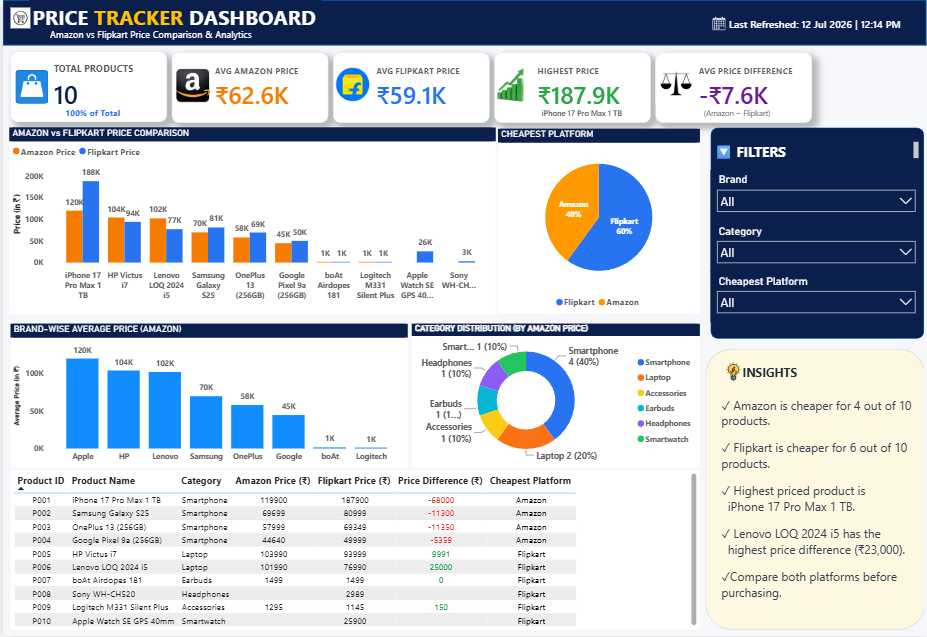

The dashboard page shown, as its layout file describes it:
{"tool":"powerbi","page":{"name":"Page 1","canvas":[1450,1000],"ordinal":0},"visuals":[{"type":"cardVisual","title":"TOTAL PRODUCTS","fields":{"Data":["merged_prices.Total Products"]},"box":[10.8,81.1,245.9,110.8],"z":0},{"type":"shape","box":[0,0,1450,71.2],"z":1000},{"type":"textbox","box":[41.4,0,458.6,60],"z":2000},{"type":"image","box":[11,11,31.6,32.9],"z":3000},{"type":"textbox","box":[68.6,39.8,355.4,32.9],"z":4000},{"type":"cardVisual","fields":{"Data":["merged_prices.Last Refreshed"]},"box":[1109.6,0,336.5,71.2],"z":5000},{"type":"image","box":[1107.7,21.2,30.8,30.8],"z":6000},{"type":"shape","box":[20,109.2,51.4,52.9],"z":7000},{"type":"image","box":[27.1,109.2,35.7,48.6],"z":8000},{"type":"textbox","box":[73,162.2,136.5,36.5],"z":9000},{"type":"cardVisual","title":"TOTAL PRODUCTS","fields":{"Data":["merged_prices.Avg Amazon Display"]},"box":[264.4,81.4,245.7,110],"z":10000},{"type":"image","box":[262.9,104.3,70,60],"z":11000},{"type":"cardVisual","title":"TOTAL PRODUCTS","fields":{"Data":["merged_prices.Avg Flipkart Display"]},"box":[517.7,81.4,245.7,110],"z":12000},{"type":"image","box":[513.9,95.3,70,74.8],"z":13000},{"type":"cardVisual","title":"TOTAL PRODUCTS","fields":{"Data":["merged_prices.Highest Price Display"]},"box":[771,81.4,245.7,110],"z":14000},{"type":"cardVisual","fields":{"Data":["merged_prices.Highest Product"]},"box":[814.9,150,218.9,51.4],"z":15000},{"type":"image","box":[771.4,95.7,55,75],"z":16000},{"type":"cardVisual","title":"TOTAL PRODUCTS","fields":{"Data":["merged_prices.Avg Difference Display"]},"box":[1024.3,81.4,245.7,110],"z":17000},{"type":"textbox","box":[1075.7,163.5,150,31.1],"z":18000},{"type":"image","box":[1024.1,96.3,64.8,68.5],"z":19000},{"type":"clusteredColumnChart","title":"AMAZON vs FLIPKART PRICE COMPARISON","fields":{"Category":["merged_prices.Product_Name_Amazon"],"Y":["Sum(merged_prices.Amazon_Price)","Sum(merged_prices.Flipkart_Price)"]},"box":[9.3,200,763,292.6],"z":20000},{"type":"pieChart","title":"CHEAPEST PLATFORM","fields":{"Y":["CountNonNull(merged_prices.Product_ID)"],"Category":["merged_prices.Cheapest_Platform"]},"box":[775.9,201.9,316.7,290.7],"z":21000},{"type":"clusteredColumnChart","title":"BRAND-WISE AVERAGE PRICE (AMAZON)","fields":{"Category":["merged_prices.Brand_Amazon"],"Y":["Avg(merged_prices.Amazon_Price)"]},"box":[11.1,507.4,623,225.9],"z":22000},{"type":"donutChart","title":"CATEGORY DISTRIBUTION (BY AMAZON PRICE)","fields":{"Category":["merged_prices.Category_Amazon"],"Y":["CountNonNull(merged_prices.Product_ID)"]},"box":[640.7,507.4,451.9,225.9],"z":23000},{"type":"tableEx","fields":{"Values":["merged_prices.Product_ID","merged_prices.Product_Name_Amazon","merged_prices.Category_Amazon","Sum(merged_prices.Amazon_Price)","Sum(merged_prices.Flipkart_Price)","Sum(merged_prices.Price_Difference)","merged_prices.Cheapest_Platform"]},"box":[11.1,737,1081.5,250],"z":24000},{"type":"shape","box":[1109.3,200,335.2,331.5],"z":25000},{"type":"textbox","box":[1109.3,216.7,331.5,37],"z":26000},{"type":"slicer","fields":{"Values":["merged_prices.Brand_Amazon"]},"box":[1109.3,266.7,331.5,79.6],"z":27000},{"type":"slicer","fields":{"Values":["merged_prices.Category_Amazon"]},"box":[1109.3,346.3,331.5,79.6],"z":28000},{"type":"slicer","fields":{"Values":["merged_prices.Cheapest_Platform"]},"box":[1109.3,425.9,331.5,79.6],"z":29000},{"type":"shape","box":[1101.9,546.3,344.4,440.7],"z":30000},{"type":"image","box":[1131.6,559.3,28.8,48.1],"z":31000},{"type":"textbox","box":[1154.7,567,194.2,48.1],"z":32000},{"type":"textbox","box":[1122.2,616.7,316.7,337],"z":33000}]}

Visuals, with their boxes in screenshot pixels (x1, y1, x2, y2), scaled from the page's 1450x1000 canvas onto the 927x637 screenshot:
"TOTAL PRODUCTS" cardVisual: {"x1": 7, "y1": 52, "x2": 164, "y2": 122}
shape: {"x1": 0, "y1": 0, "x2": 926, "y2": 45}
textbox: {"x1": 26, "y1": 0, "x2": 320, "y2": 38}
image: {"x1": 7, "y1": 7, "x2": 27, "y2": 28}
textbox: {"x1": 44, "y1": 25, "x2": 271, "y2": 46}
cardVisual - merged_prices.Last Refreshed: {"x1": 709, "y1": 0, "x2": 925, "y2": 45}
image: {"x1": 708, "y1": 14, "x2": 728, "y2": 33}
shape: {"x1": 13, "y1": 70, "x2": 46, "y2": 103}
image: {"x1": 17, "y1": 70, "x2": 40, "y2": 101}
textbox: {"x1": 47, "y1": 103, "x2": 134, "y2": 127}
"TOTAL PRODUCTS" cardVisual: {"x1": 169, "y1": 52, "x2": 326, "y2": 122}
image: {"x1": 168, "y1": 66, "x2": 213, "y2": 105}
"TOTAL PRODUCTS" cardVisual: {"x1": 331, "y1": 52, "x2": 488, "y2": 122}
image: {"x1": 329, "y1": 61, "x2": 373, "y2": 108}
"TOTAL PRODUCTS" cardVisual: {"x1": 493, "y1": 52, "x2": 650, "y2": 122}
cardVisual - merged_prices.Highest Product: {"x1": 521, "y1": 96, "x2": 661, "y2": 128}
image: {"x1": 493, "y1": 61, "x2": 528, "y2": 109}
"TOTAL PRODUCTS" cardVisual: {"x1": 655, "y1": 52, "x2": 812, "y2": 122}
textbox: {"x1": 688, "y1": 104, "x2": 784, "y2": 124}
image: {"x1": 655, "y1": 61, "x2": 696, "y2": 105}
"AMAZON vs FLIPKART PRICE COMPARISON" clusteredColumnChart: {"x1": 6, "y1": 127, "x2": 494, "y2": 314}
"CHEAPEST PLATFORM" pieChart: {"x1": 496, "y1": 129, "x2": 699, "y2": 314}
"BRAND-WISE AVERAGE PRICE (AMAZON)" clusteredColumnChart: {"x1": 7, "y1": 323, "x2": 405, "y2": 467}
"CATEGORY DISTRIBUTION (BY AMAZON PRICE)" donutChart: {"x1": 410, "y1": 323, "x2": 699, "y2": 467}
tableEx - merged_prices.Product_ID x merged_prices.Product_Name_Amazon: {"x1": 7, "y1": 469, "x2": 699, "y2": 629}
shape: {"x1": 709, "y1": 127, "x2": 923, "y2": 339}
textbox: {"x1": 709, "y1": 138, "x2": 921, "y2": 162}
slicer - merged_prices.Brand_Amazon: {"x1": 709, "y1": 170, "x2": 921, "y2": 221}
slicer - merged_prices.Category_Amazon: {"x1": 709, "y1": 221, "x2": 921, "y2": 271}
slicer - merged_prices.Cheapest_Platform: {"x1": 709, "y1": 271, "x2": 921, "y2": 322}
shape: {"x1": 704, "y1": 348, "x2": 925, "y2": 629}
image: {"x1": 723, "y1": 356, "x2": 742, "y2": 387}
textbox: {"x1": 738, "y1": 361, "x2": 862, "y2": 392}
textbox: {"x1": 717, "y1": 393, "x2": 920, "y2": 608}
